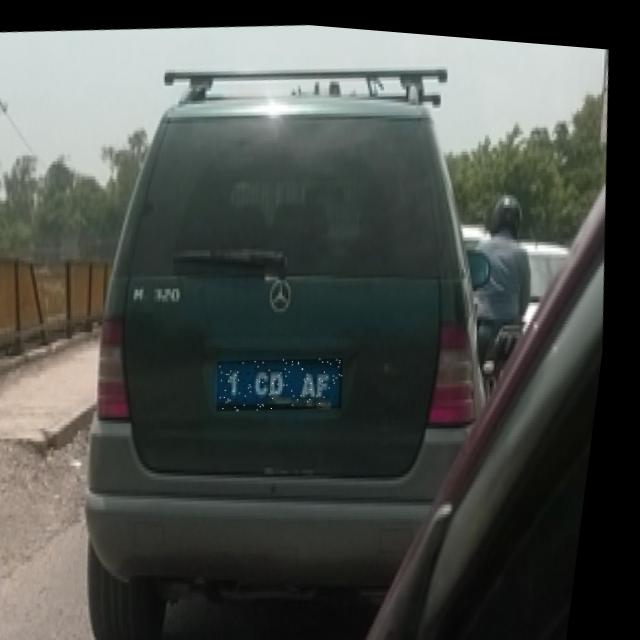license_plate: (221, 343, 356, 414)
